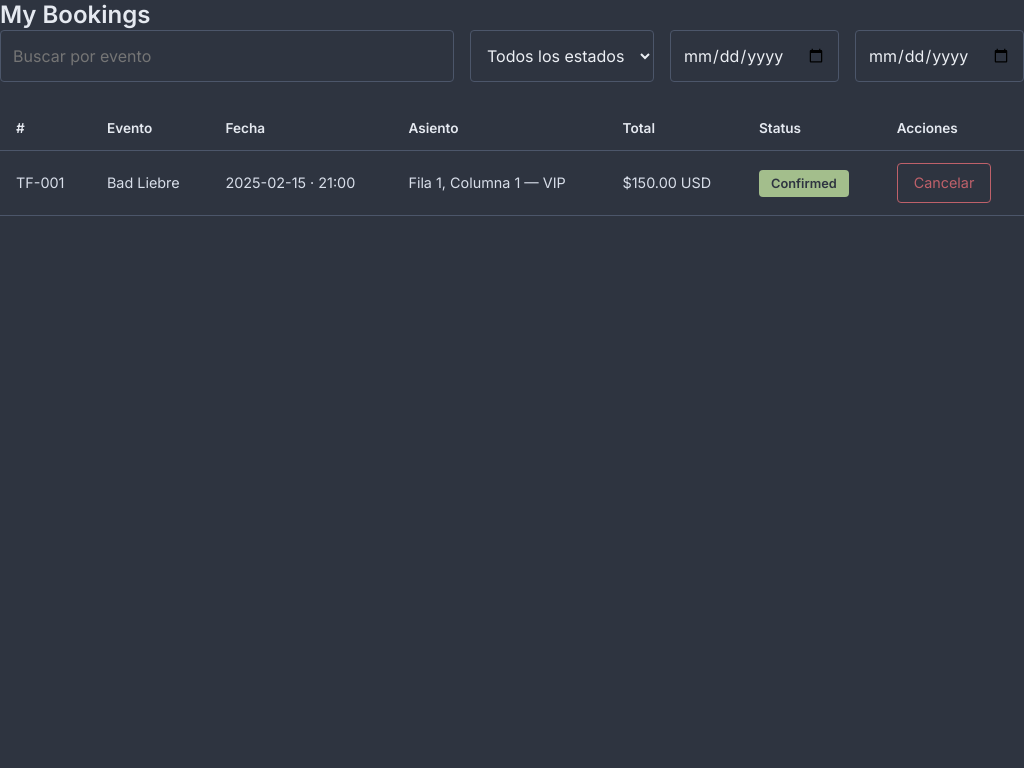
Test: BookingsPage › al cancelar, actualiza la fila de inmediato con un patch local — sin refetch (AC: veo el cambio reflejado)
Expected: the text "TF-001" is shown, [0,151,91,216]
# pulsa Cancelar y confirma en el modal
What coordinates should you click on to do the following:
click the button "Cancelar"
I would click on:
 (944, 183)
Its box is [897,163,991,203].
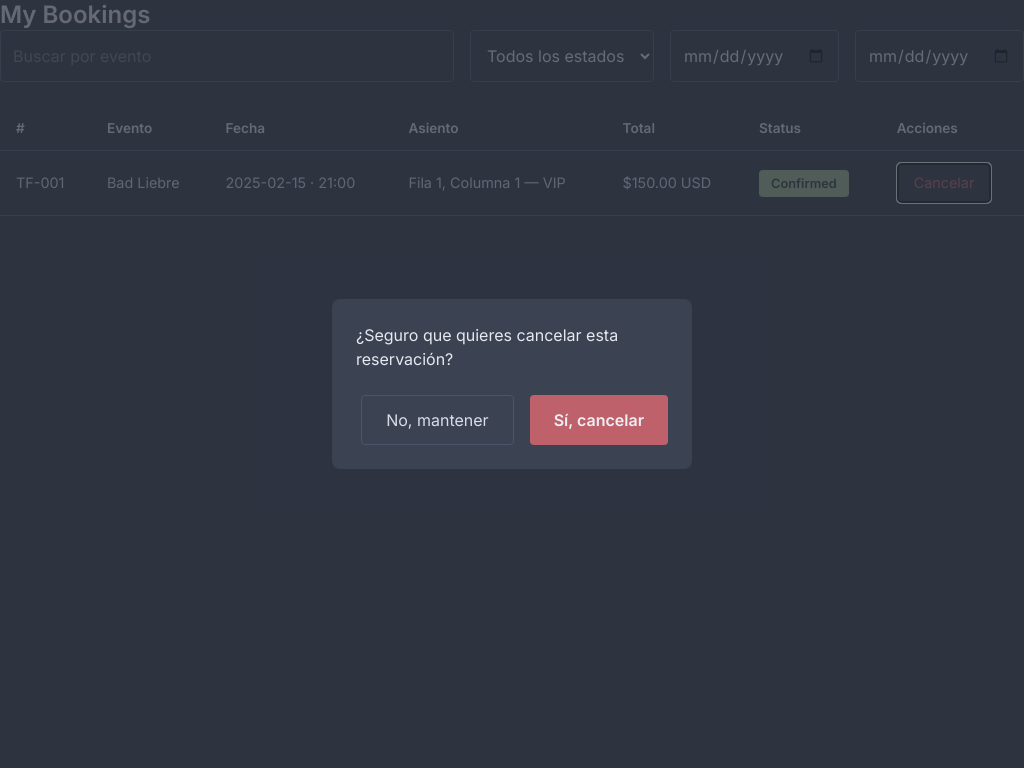
Expected: the text "¿Seguro que quieres cancelar esta reservación?" is shown, [356,325,618,369]
What coordinates should you click on to do the following:
click the button "Sí, cancelar"
I would click on:
 (599, 420)
Its box is [530,395,668,445].
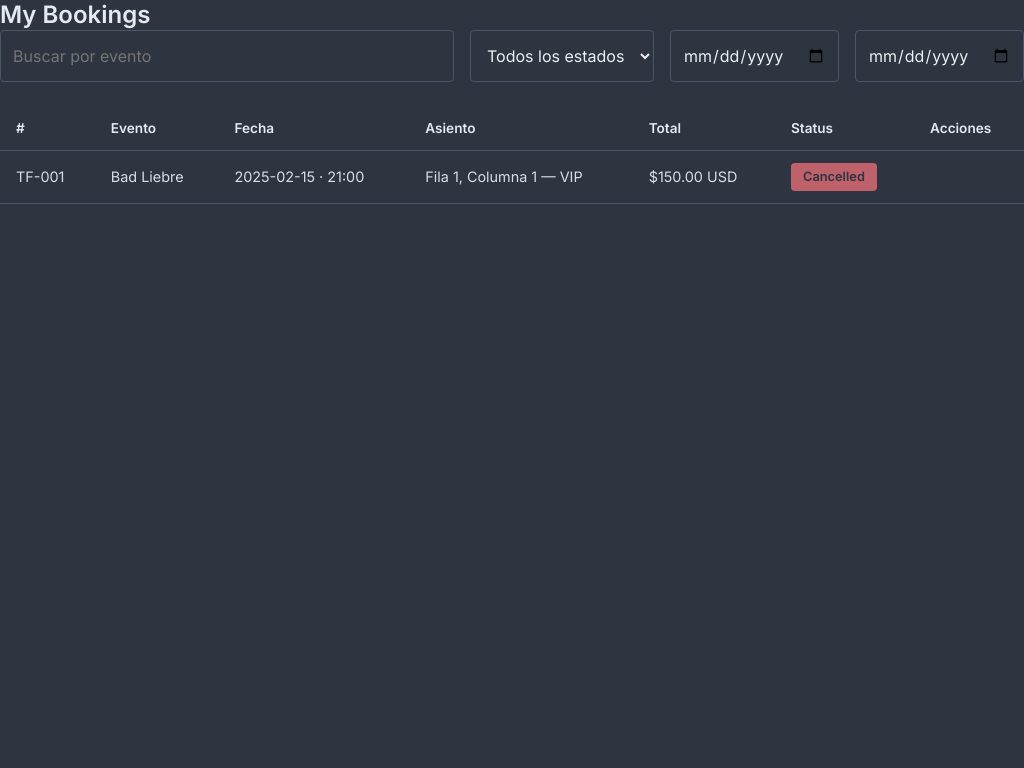
Expected: the text "Cancelled" is shown, [791,163,877,191]
